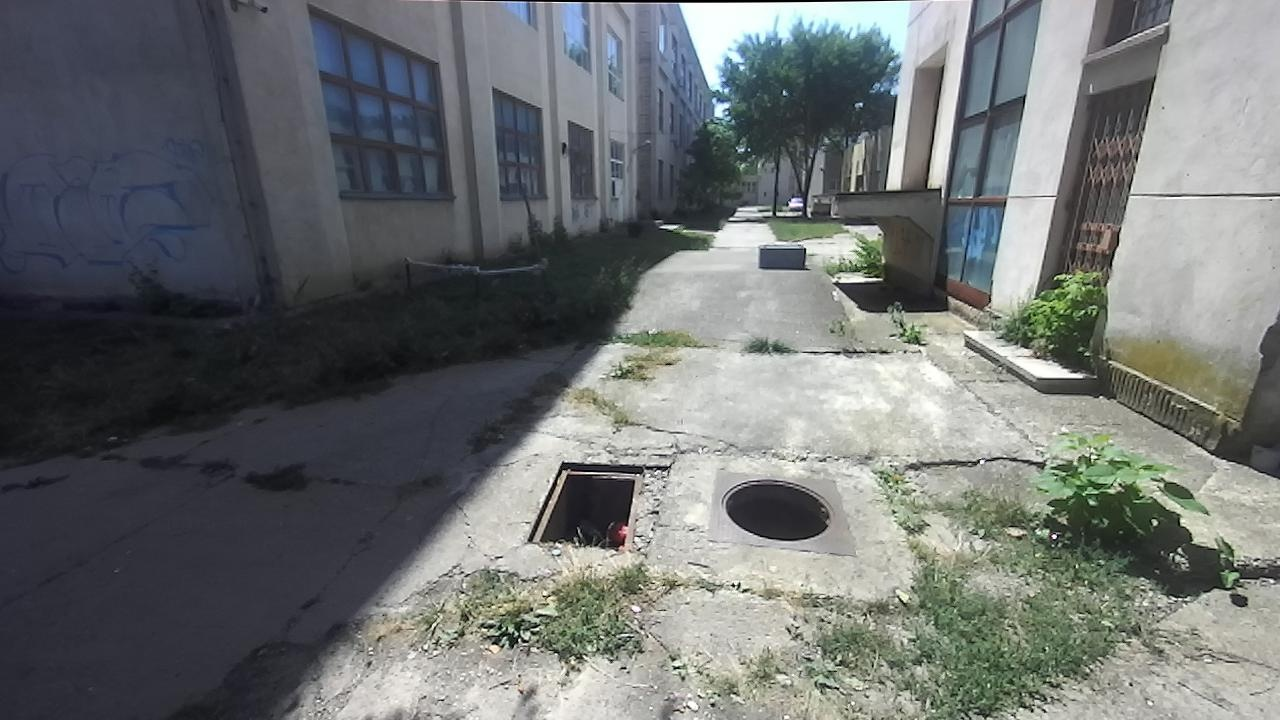drain: (532, 456, 669, 549), (715, 476, 836, 541)
